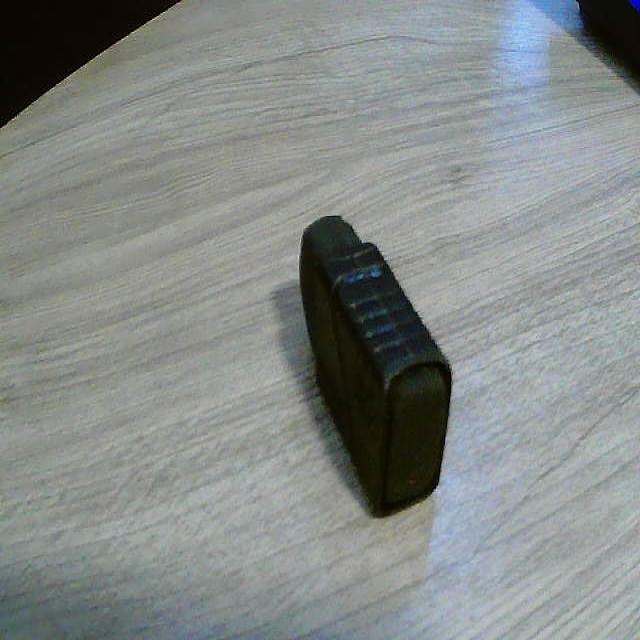borracha: (265, 203, 482, 528)
